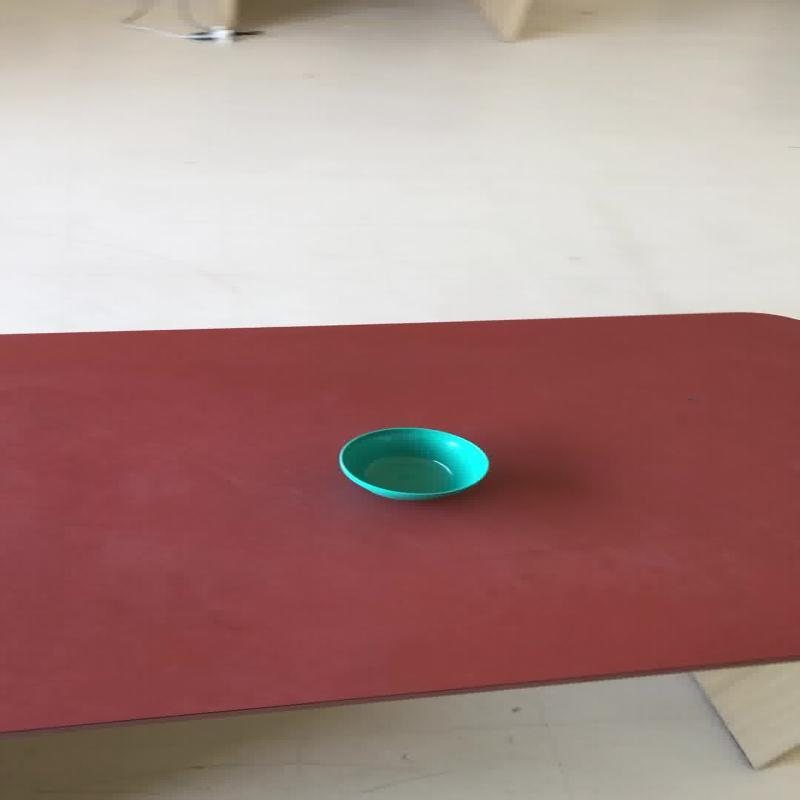bowl: (336, 426, 489, 500)
